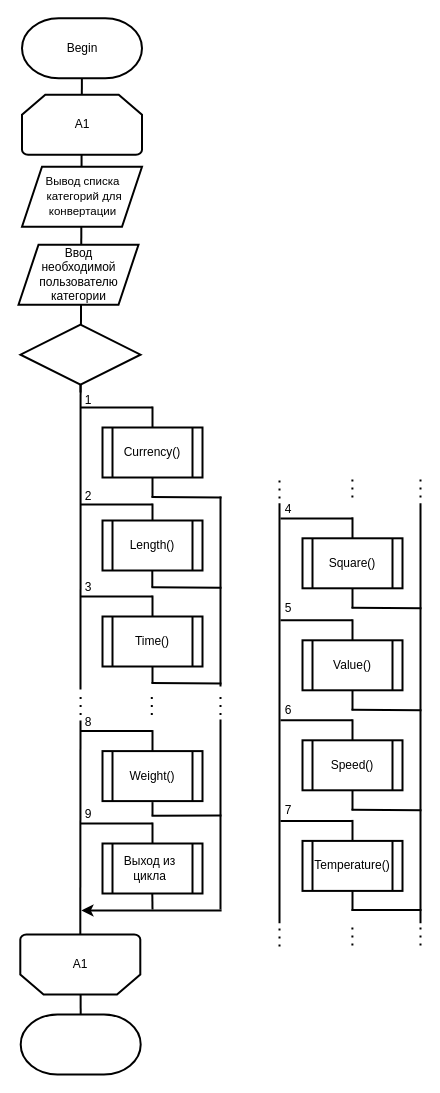
This 440x1093 diagram has some shape labels left out. The shapes that lost their labels are listed below. From the top down, each one's box as (x1, y1, x2, y2) in pixels, then its label:
(19, 323, 141, 385): При выборе категории №
(19, 1013, 141, 1075): End
